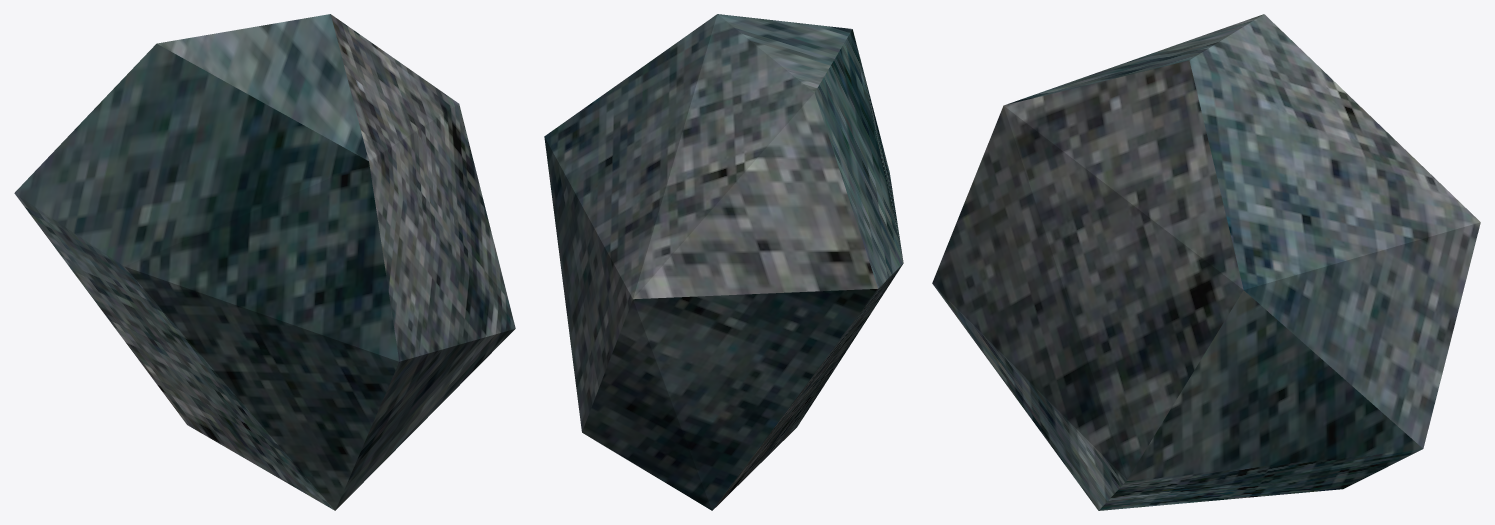
The model's file is piedronska.obj.
3 renders of one model, left to right at view 1: azimuth 30°, elevation 25°; view 2: azimuth 150°, elevation 25°; view 3: azimuth 270°, elevation 25°, orthographic. The views are drawn at different scales.
Visible parts, largest first — view 1: Icosphere; view 2: Icosphere; view 3: Icosphere.
Part boxes in pixels (x1=…): Icosphere: x1=14, y1=14, x2=515, y2=510; Icosphere: x1=544, y1=14, x2=903, y2=510; Icosphere: x1=932, y1=14, x2=1480, y2=510.
Bounding box in the file's own units: 1.56 × 1.71 × 1.81.
